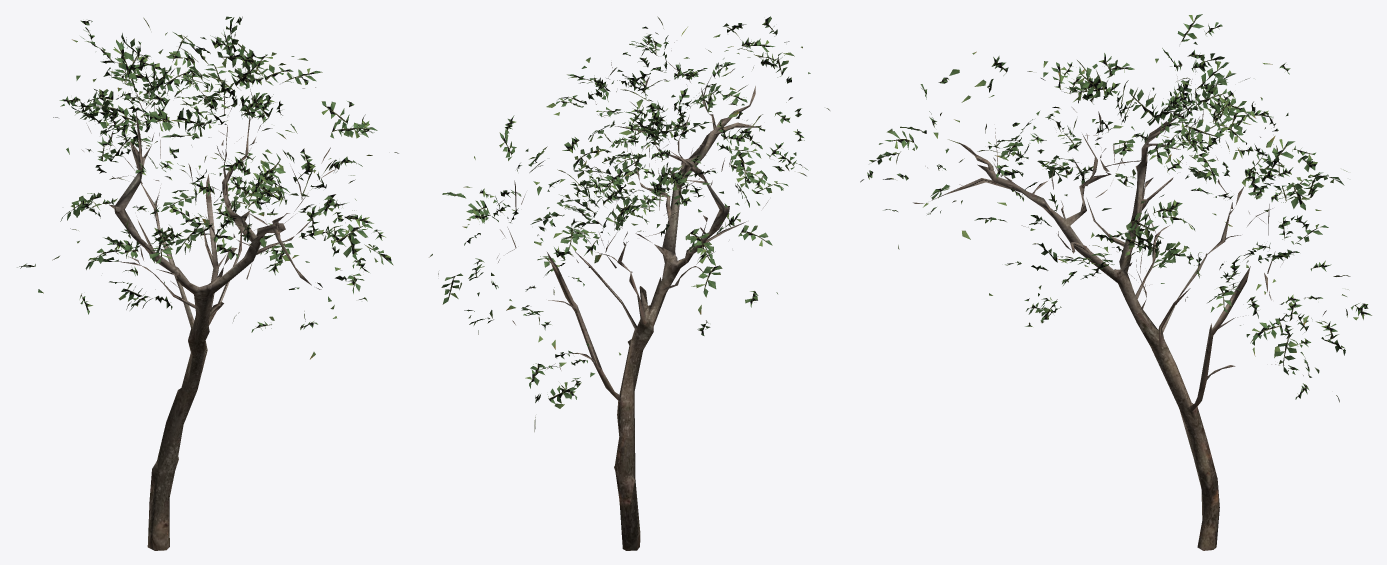
Rendered from arbre_petit_ornement_lod1.glb.
3 renders of one model, left to right at view 1: azimuth 30°, elevation 25°; view 2: azimuth 150°, elevation 25°; view 3: azimuth 270°, elevation 25°, orthographic. The views are drawn at different scales.
Visible parts, largest first — view 1: tree_small_02_LOD0; view 2: tree_small_02_LOD0; view 3: tree_small_02_LOD0.
Boxes of the visible parts, x1,y1,x2,y2 form: tree_small_02_LOD0: (17, 16, 398, 550); tree_small_02_LOD0: (429, 16, 829, 550); tree_small_02_LOD0: (860, 14, 1371, 550).
Bounding box in the file's own units: 2.88 × 4.53 × 4.25.
3 materials, 3 textured.
